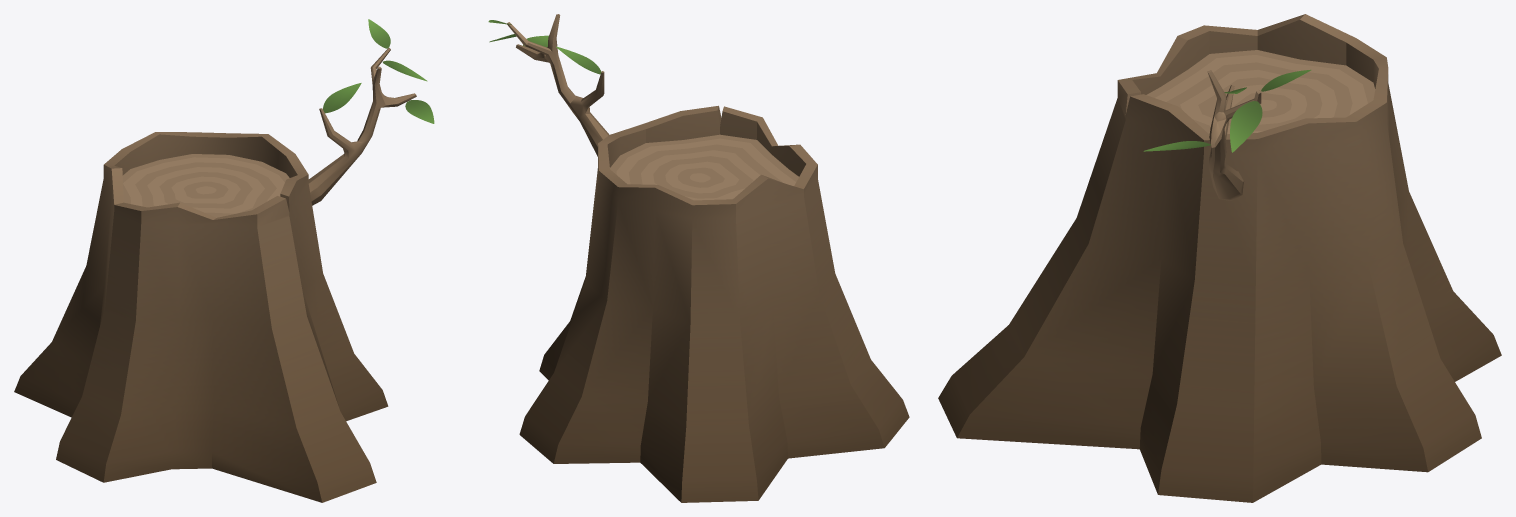
The model's file is Stump_01.fbx.
3 renders of one model, left to right at view 1: azimuth 30°, elevation 25°; view 2: azimuth 150°, elevation 25°; view 3: azimuth 270°, elevation 25°, orthographic. The views are drawn at different scales.
Parts seen in each view (by area): view 1: Stump_01_LOD0; view 2: Stump_01_LOD0; view 3: Stump_01_LOD0.
Part boxes in pixels (bbox=[...]): Stump_01_LOD0: bbox=[14, 19, 434, 502]; Stump_01_LOD0: bbox=[488, 14, 909, 502]; Stump_01_LOD0: bbox=[938, 14, 1501, 502].
Size of what is drawn, in the model's own units: 0.772 by 0.6607 by 0.7456.
